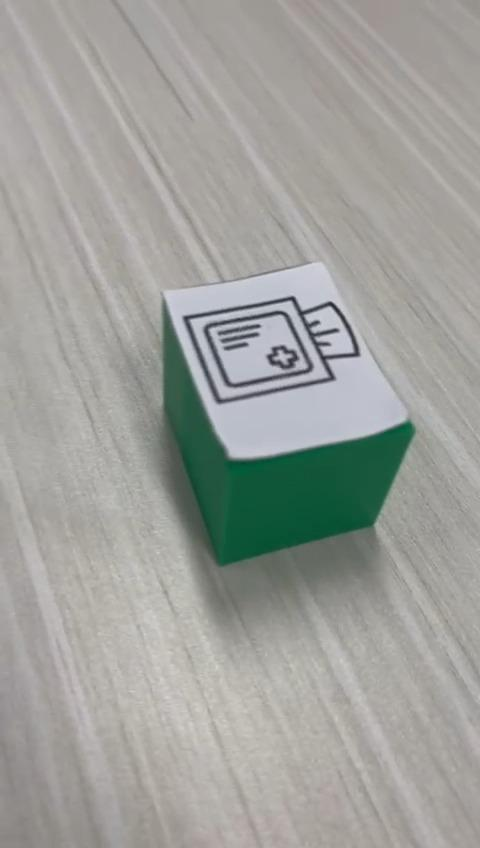Gauze: (159, 259, 416, 566)
